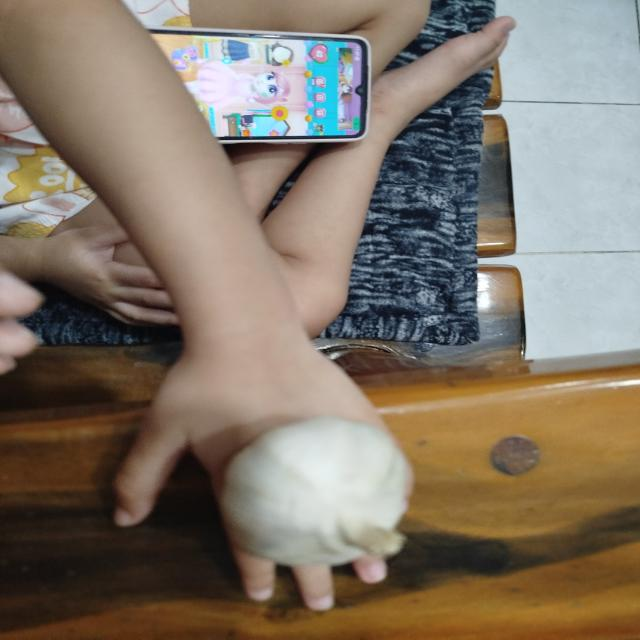garlic: (195, 374, 442, 596)
